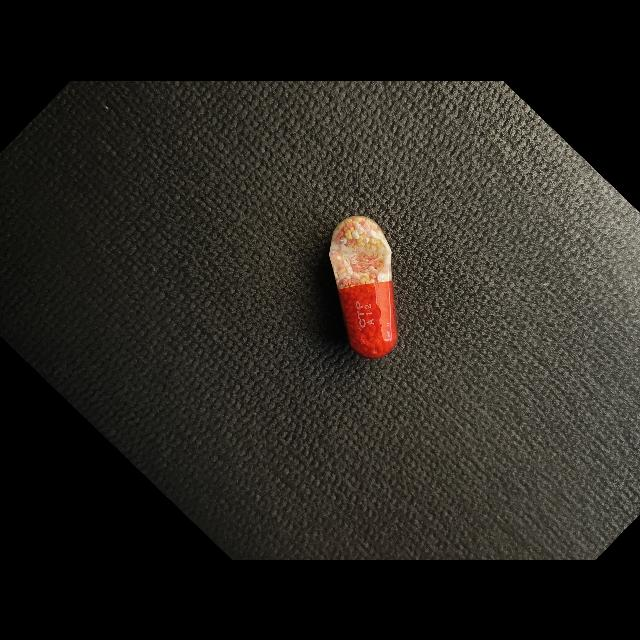Defective Capsule: (329, 215, 398, 358)
